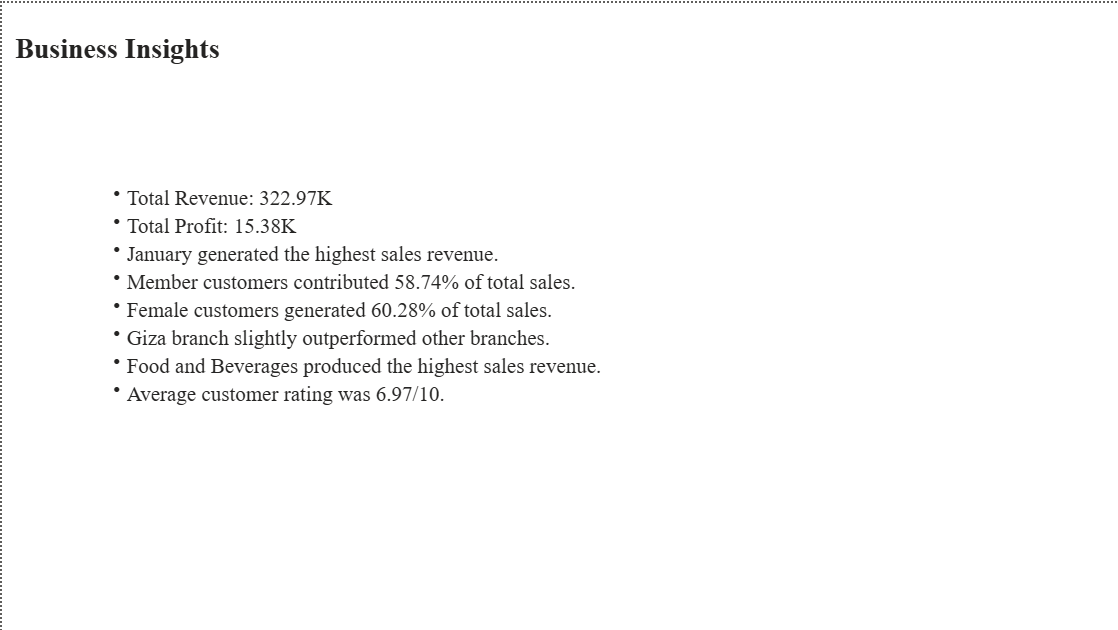

Layout of this report page (visuals, bound fields, positions):
{"tool":"powerbi","page":{"name":"Business Insights","canvas":[1280,720],"ordinal":3},"visuals":[{"type":"textbox","box":[10,28.6,280,61.4],"z":0},{"type":"textbox","box":[101.4,200,747.1,384.3],"z":1000}]}

Visuals, with their boxes in screenshot pixels (x1, y1, x2, y2), scaled from the page's 1280x720 canvas onto the 1118x630 screenshot:
textbox: (left=9, top=25, right=253, bottom=79)
textbox: (left=89, top=175, right=741, bottom=511)
